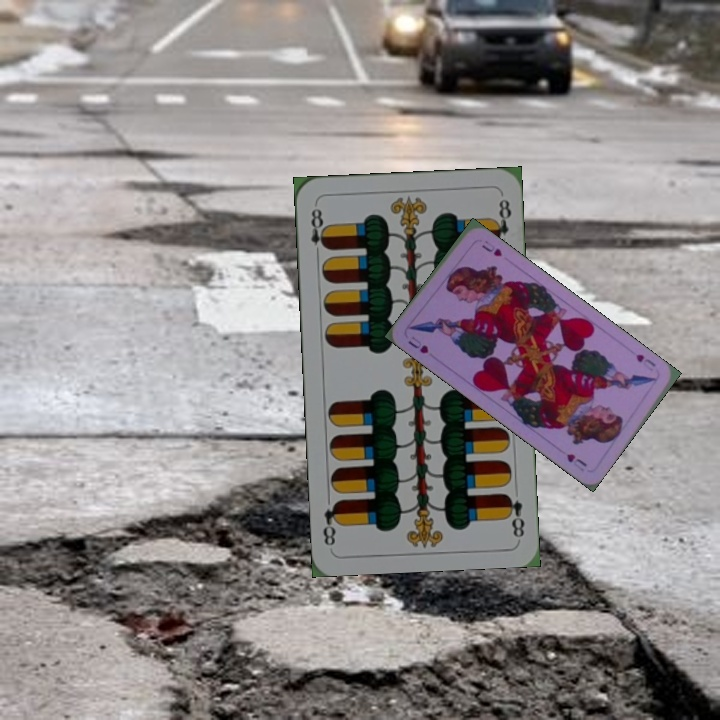E8: (307, 204, 331, 260), (501, 489, 527, 540)
HU: (631, 350, 659, 377), (404, 332, 431, 356)
